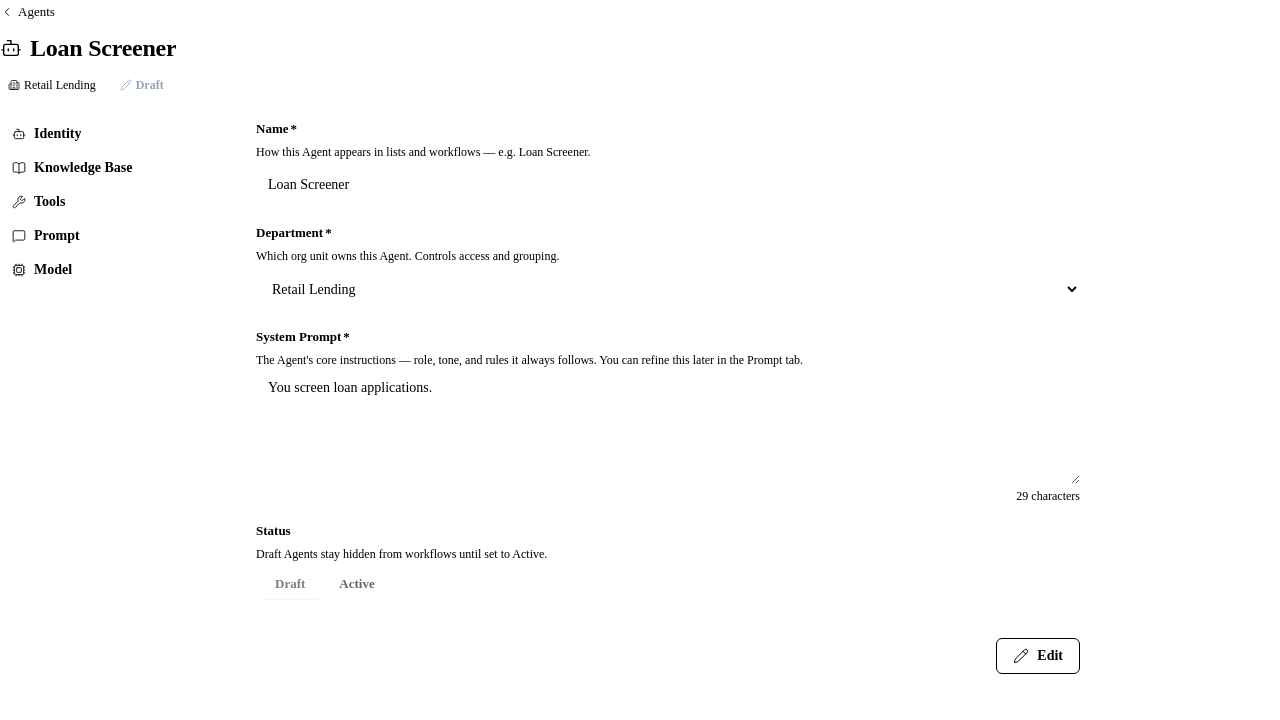
Test: AgentDetailShell — Story 2.8 integration › Cancel keeps the user on the current (dirty) tab (AC #4)
This screenshot has width=1280, height=720.
Expected: the element with test id "vaic-identity-tab" is shown, top-left (256, 118), bottom-right (1080, 674)
Click the button with test id "vaic-tab-edit". click: [1038, 656]
box: top-left (996, 638), bottom-right (1080, 674)
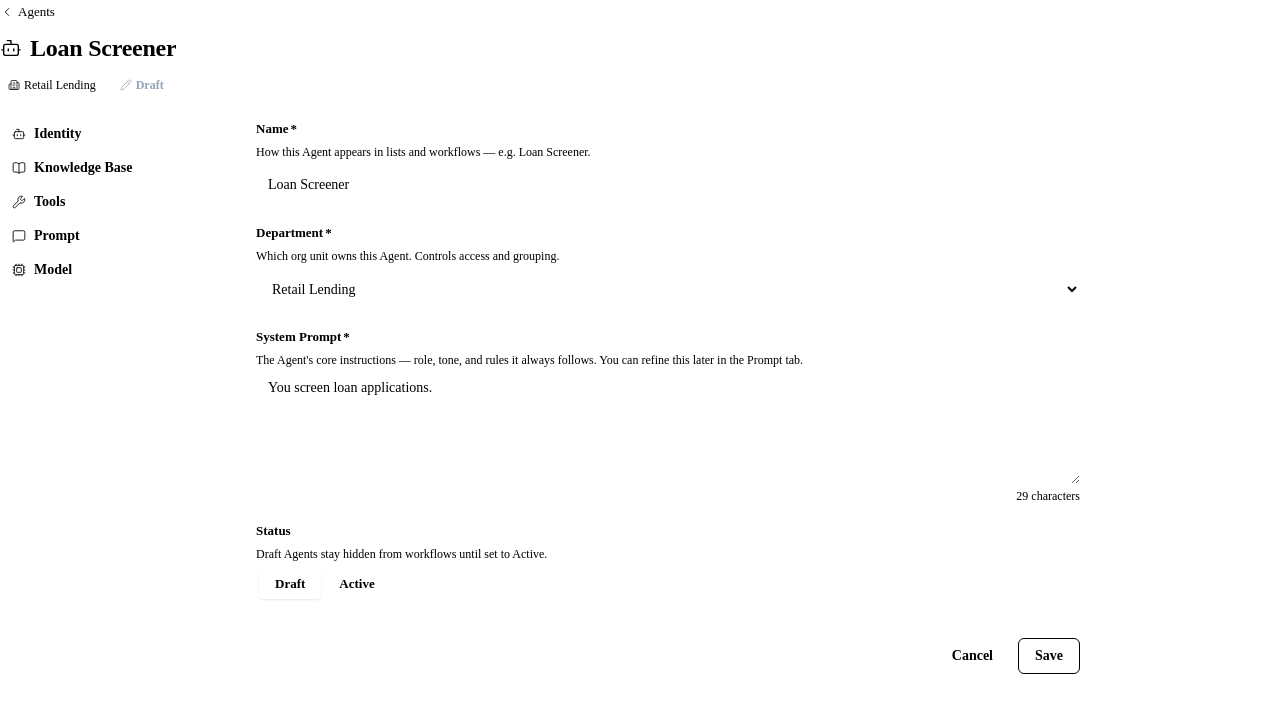
Replace the text in the field labelled "Name" with "Loan Screener v2". click: [668, 185]
box: top-left (256, 164), bottom-right (1080, 206)
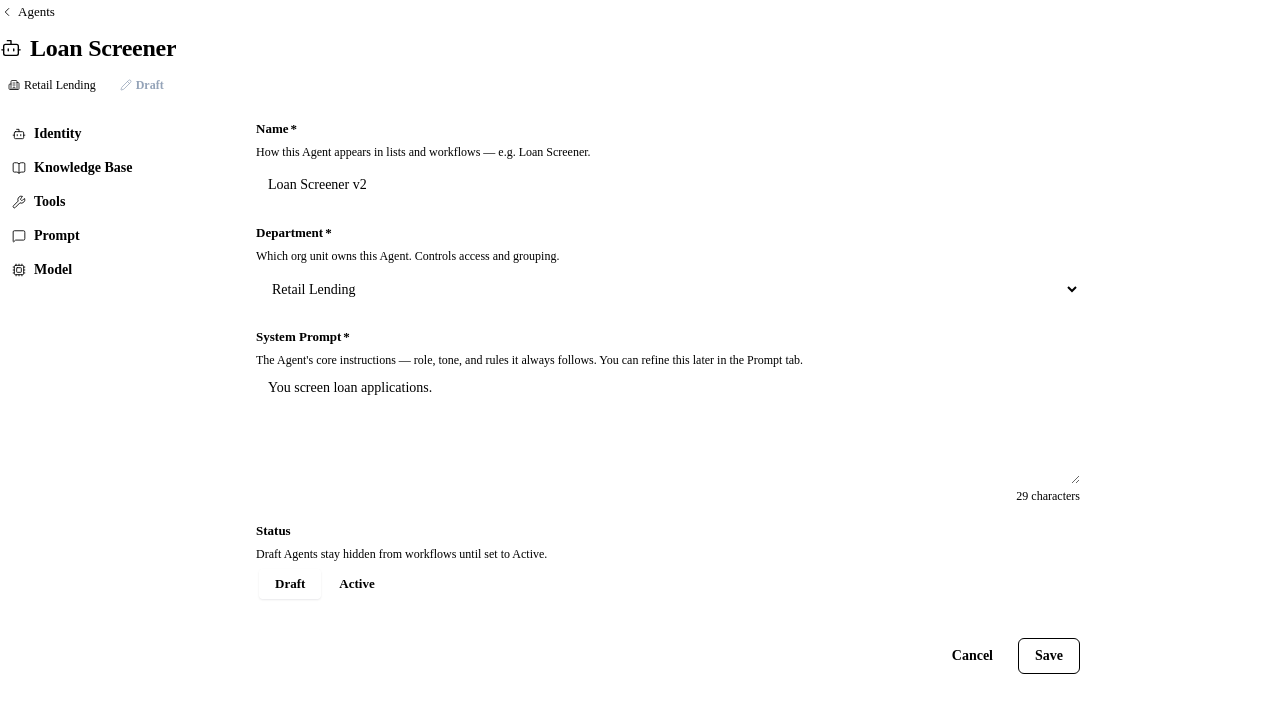
Click the tab with test id "vaic-tab-model". click: [116, 270]
box: top-left (0, 254), bottom-right (232, 286)
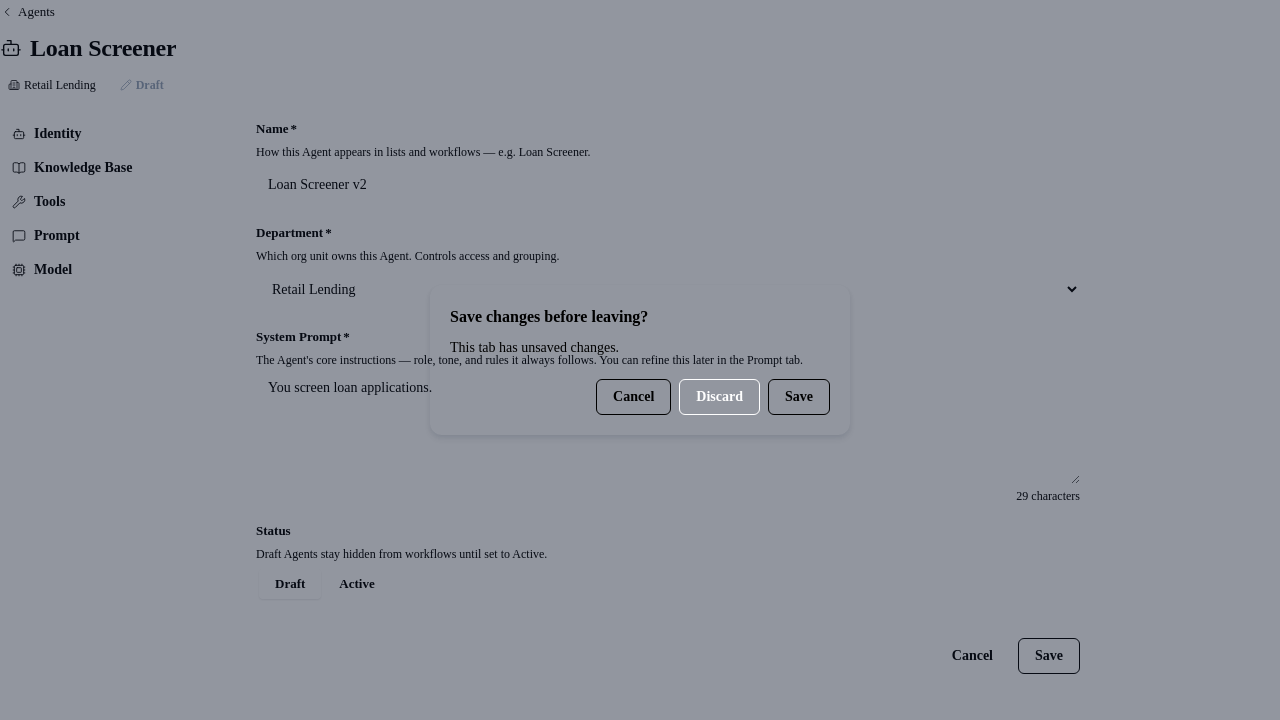
Click the button "Cancel". click: [634, 397]
box: top-left (596, 379), bottom-right (671, 415)
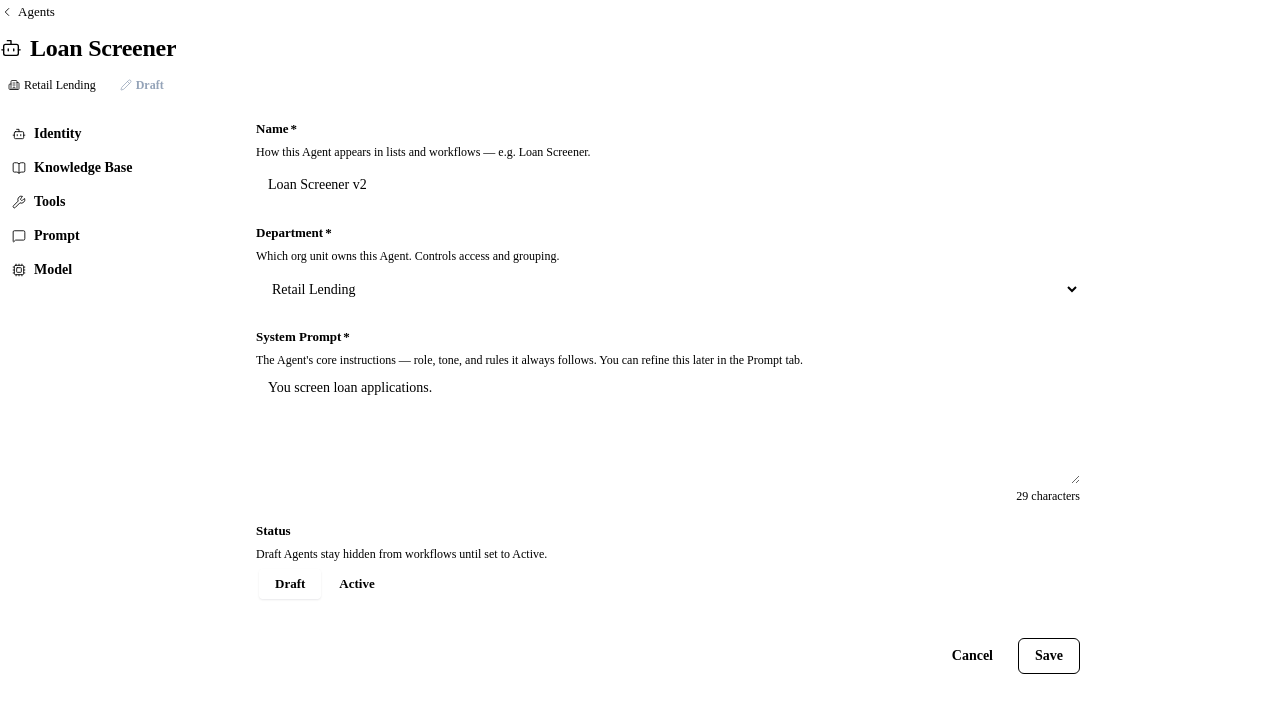
Expected: the element with test id "vaic-identity-tab" is shown, top-left (256, 118), bottom-right (1080, 674)
Expected: the dialog with test id "vaic-confirm-dialog" is gone
